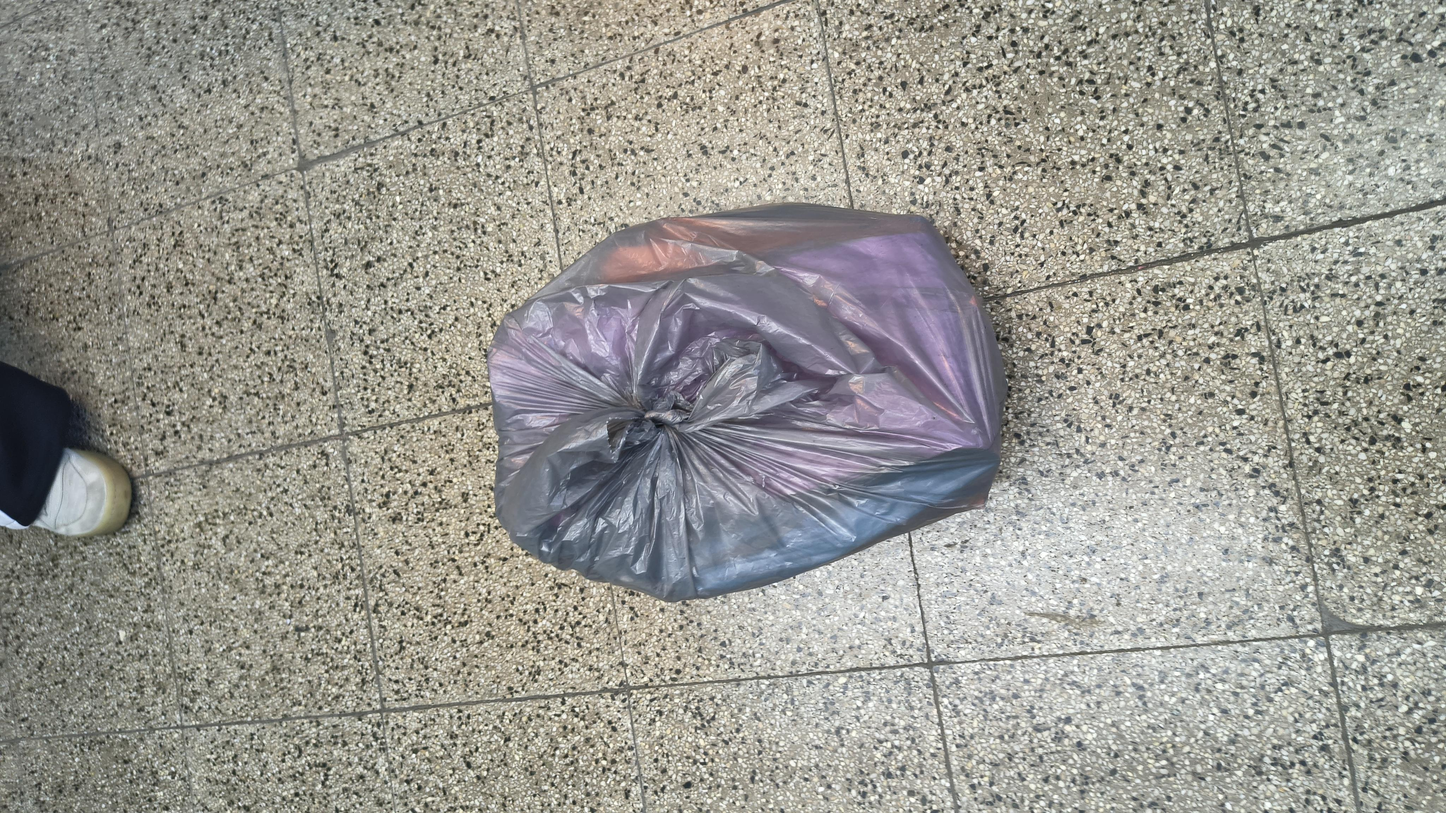Garbage: (339, 262, 1149, 584)
